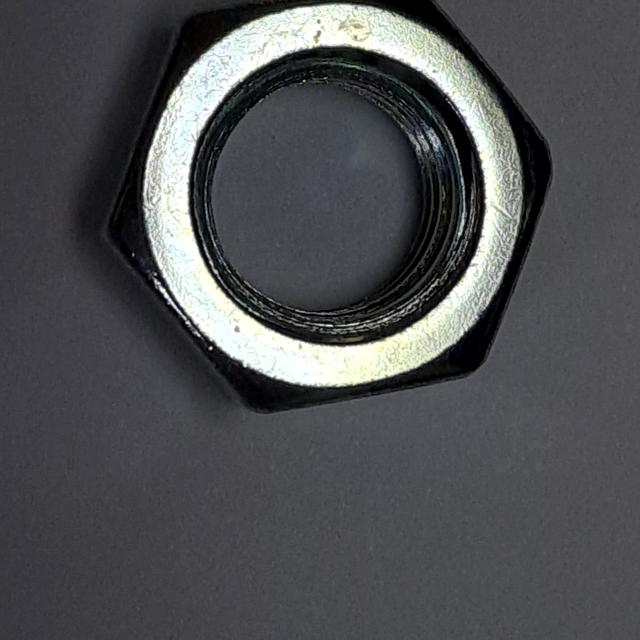Excellent: (83, 1, 563, 427)
